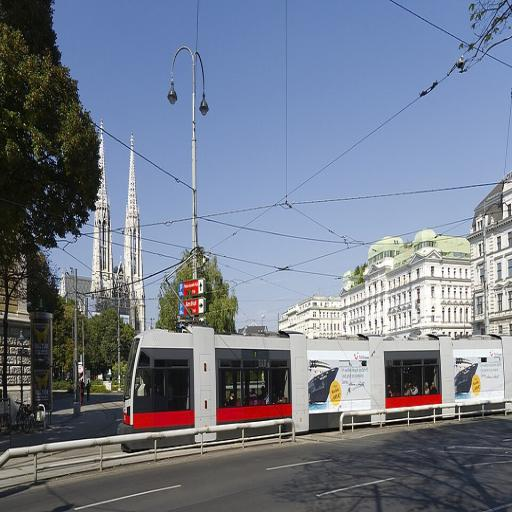ULF: (115, 328, 512, 455)
